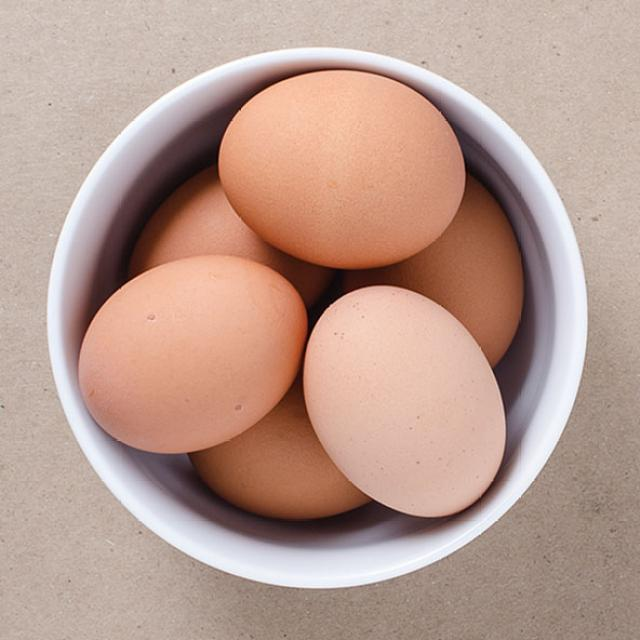egg: (218, 70, 467, 270), (304, 286, 507, 517), (79, 255, 308, 454)
